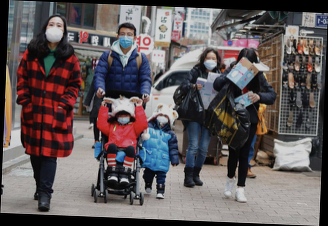with_mask: (45, 20, 64, 44), (118, 30, 135, 48), (203, 55, 218, 69), (156, 111, 169, 125), (117, 113, 130, 125)
